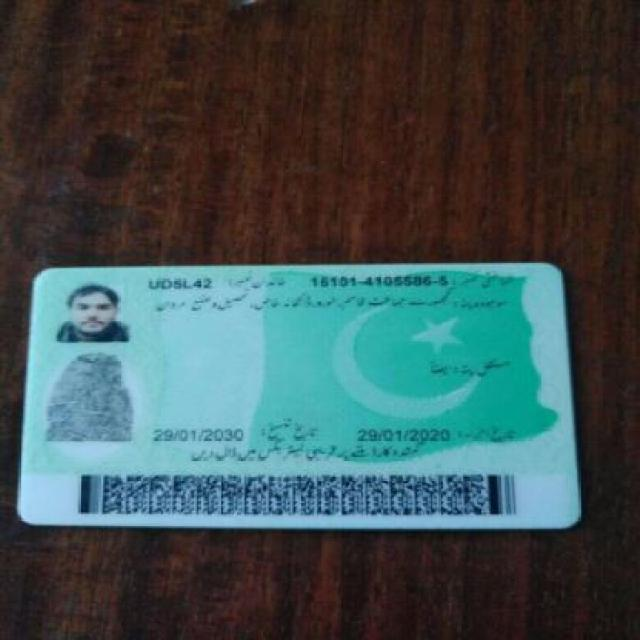Back: (17, 258, 597, 536)
